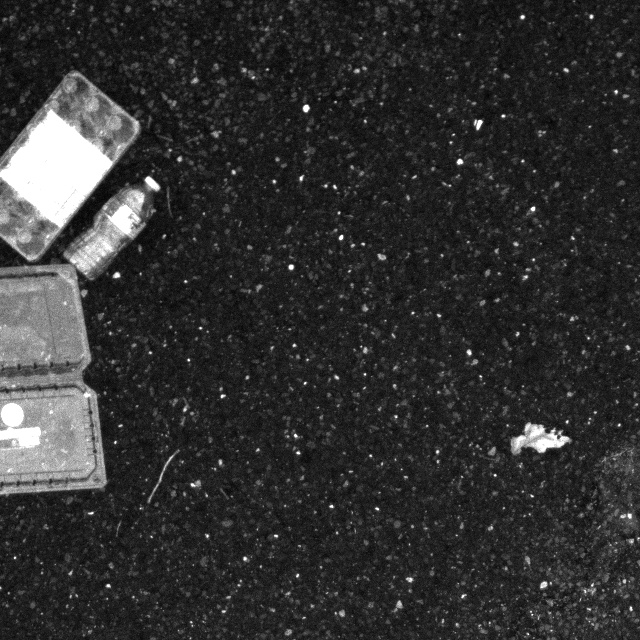bottle: (60, 165, 167, 294)
container: (0, 58, 153, 278), (0, 257, 119, 511)
